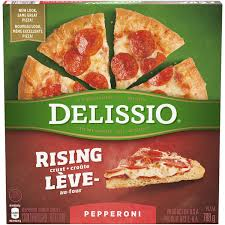pizza: (34, 13, 181, 87)
